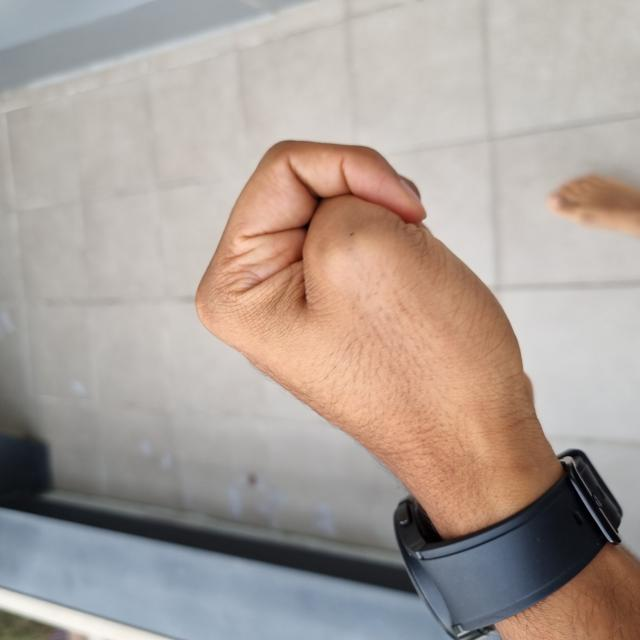Rock: (126, 197, 499, 638)
